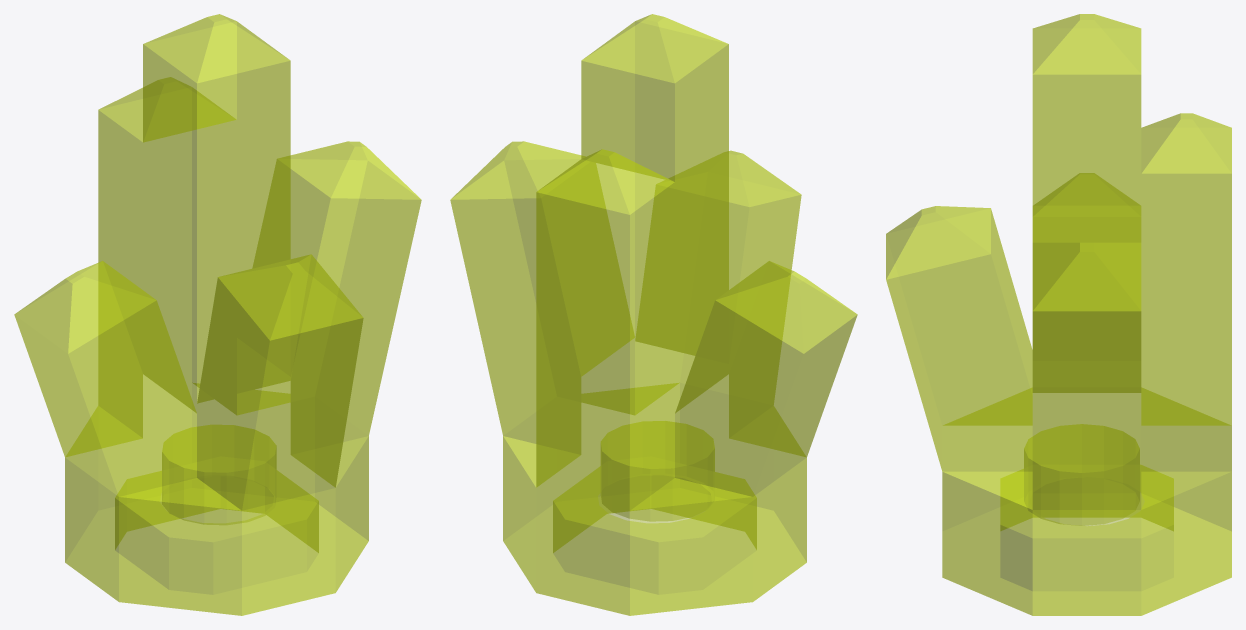
The picture shows the model from 3 angles, left to right: view 1: azimuth 30°, elevation 25°; view 2: azimuth 150°, elevation 25°; view 3: azimuth 270°, elevation 25°; orthographic projection.
Parts seen in each view (by area): view 1: 30385_1_30385_1n; view 2: 30385_1_30385_1n; view 3: 30385_1_30385_1n.
Boxes of the visible parts, x1=… form: 30385_1_30385_1n: x1=14, y1=14, x2=421, y2=615; 30385_1_30385_1n: x1=450, y1=14, x2=857, y2=615; 30385_1_30385_1n: x1=886, y1=14, x2=1231, y2=615.
Size of the model in its own units: 2.78 by 4.01 by 2.34.
